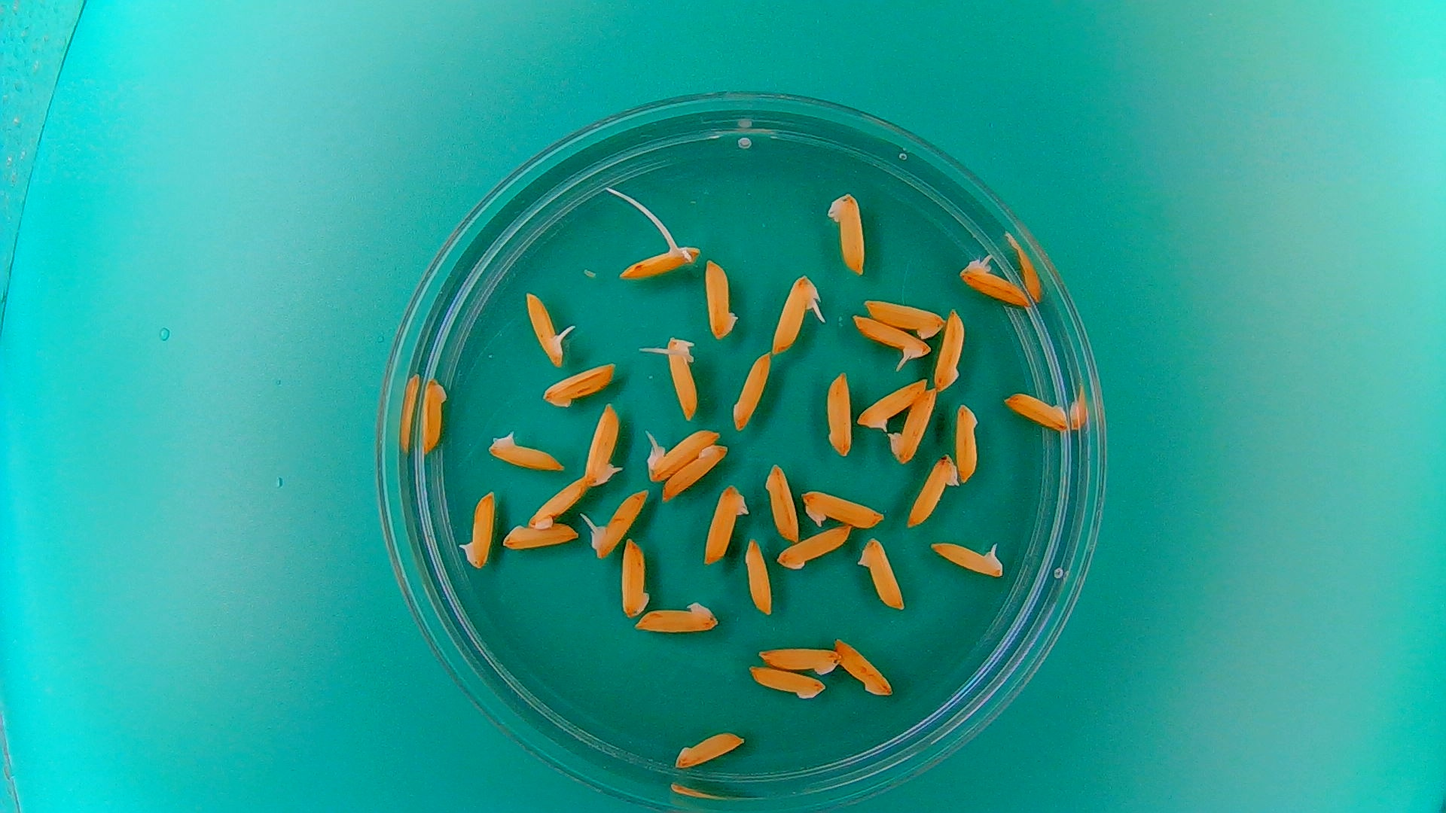no: (905, 452, 959, 528), (775, 521, 855, 572), (659, 443, 728, 501), (856, 534, 906, 614), (538, 360, 621, 408), (831, 635, 894, 698), (859, 295, 947, 340), (823, 189, 868, 277), (524, 473, 590, 530), (633, 595, 721, 636), (729, 351, 772, 431), (746, 662, 826, 703), (703, 254, 740, 342), (762, 461, 801, 544), (930, 306, 966, 395), (823, 367, 856, 460), (673, 728, 747, 769), (755, 641, 841, 676), (1002, 388, 1071, 431), (618, 532, 651, 620), (742, 533, 776, 617), (500, 518, 581, 551), (418, 373, 450, 455), (953, 400, 981, 484)
yes: (638, 338, 700, 422), (583, 486, 651, 559), (768, 269, 825, 354), (847, 312, 931, 367), (604, 236, 700, 283), (643, 425, 723, 480), (957, 251, 1033, 308), (700, 482, 751, 565), (854, 376, 929, 431), (797, 484, 886, 530), (523, 288, 574, 368), (886, 386, 938, 464), (484, 427, 566, 473), (582, 400, 624, 487), (926, 536, 1008, 579), (457, 485, 496, 571)
